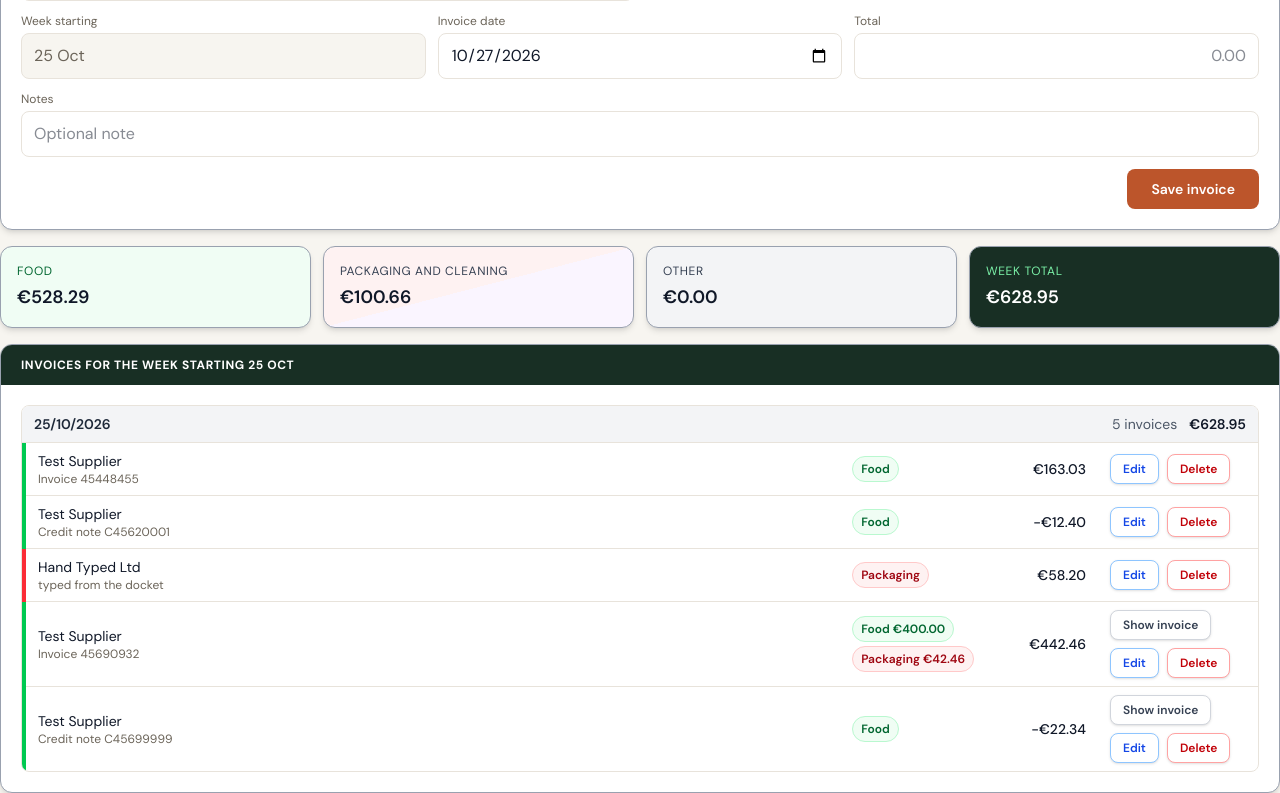
Test: show invoice › opens what was read off that document, read when it opens
This screenshot has width=1280, height=793.
(page scrolled)
Click the button "Show invoice" in the row of "€400.00" at (1161,625), box [1110,610,1211,640]
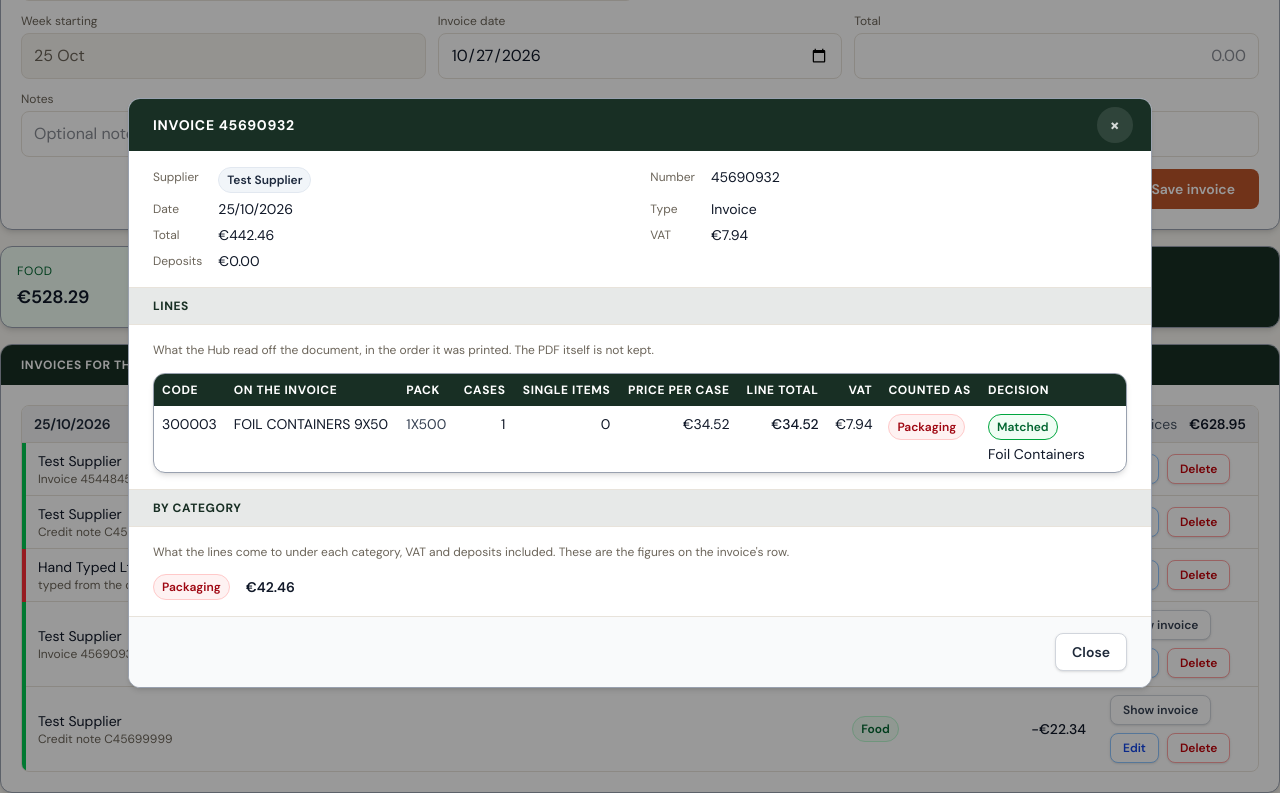
Expected: the text "FOIL CONTAINERS 9X50" is shown 2 times
